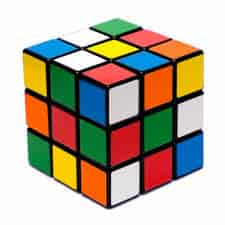rubik_cube: (18, 12, 210, 212)
